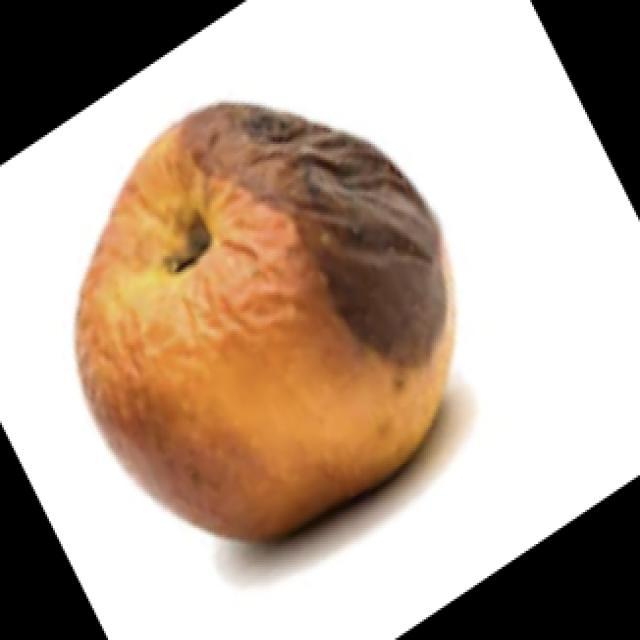Rotten: (64, 90, 458, 530)
